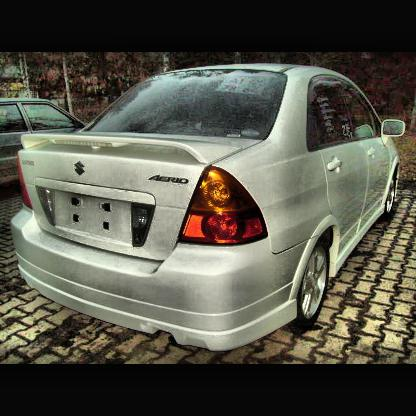Suzuki Aerio Sedan 2007: (10, 62, 411, 355)
